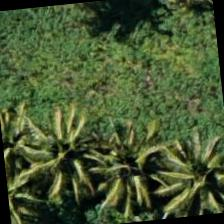Kelapa_Sawit: (11, 106, 110, 205), (62, 132, 162, 223), (148, 149, 223, 221)
